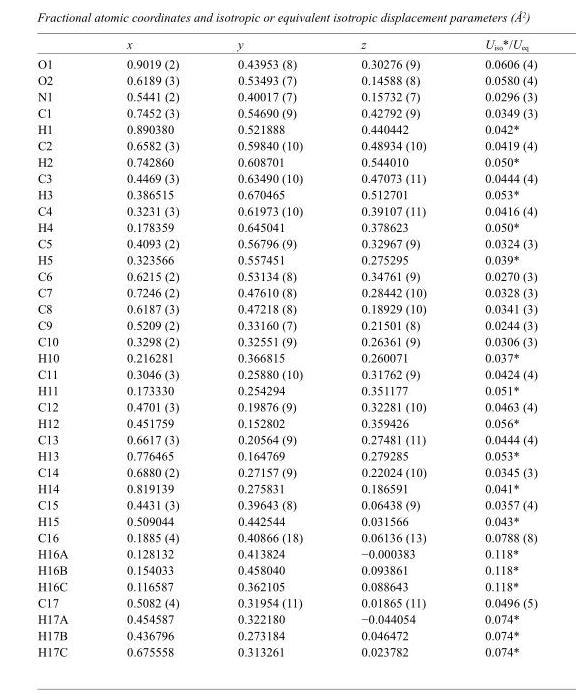table: (36, 37, 536, 658)
table column: (207, 37, 331, 658), (331, 37, 455, 658), (96, 37, 207, 658), (455, 37, 536, 658), (36, 37, 96, 658)
table column header: (36, 37, 536, 54)
table row: (36, 37, 536, 54), (36, 54, 536, 71), (36, 71, 536, 88), (36, 120, 536, 137), (36, 169, 536, 186), (36, 218, 536, 235), (36, 267, 536, 284), (36, 316, 536, 333), (36, 365, 536, 382), (36, 414, 536, 431), (36, 463, 536, 480), (36, 512, 536, 529), (36, 561, 536, 578), (36, 610, 536, 627), (36, 88, 536, 104), (36, 104, 536, 120), (36, 137, 536, 153), (36, 153, 536, 169), (36, 186, 536, 202), (36, 202, 536, 218), (36, 235, 536, 251), (36, 251, 536, 267), (36, 284, 536, 300), (36, 300, 536, 316), (36, 333, 536, 349), (36, 349, 536, 365), (36, 382, 536, 398), (36, 398, 536, 414), (36, 431, 536, 447), (36, 447, 536, 463), (36, 480, 536, 496), (36, 496, 536, 512), (36, 529, 536, 545), (36, 545, 536, 561), (36, 578, 536, 594), (36, 594, 536, 610), (36, 627, 536, 643), (36, 643, 536, 658)
